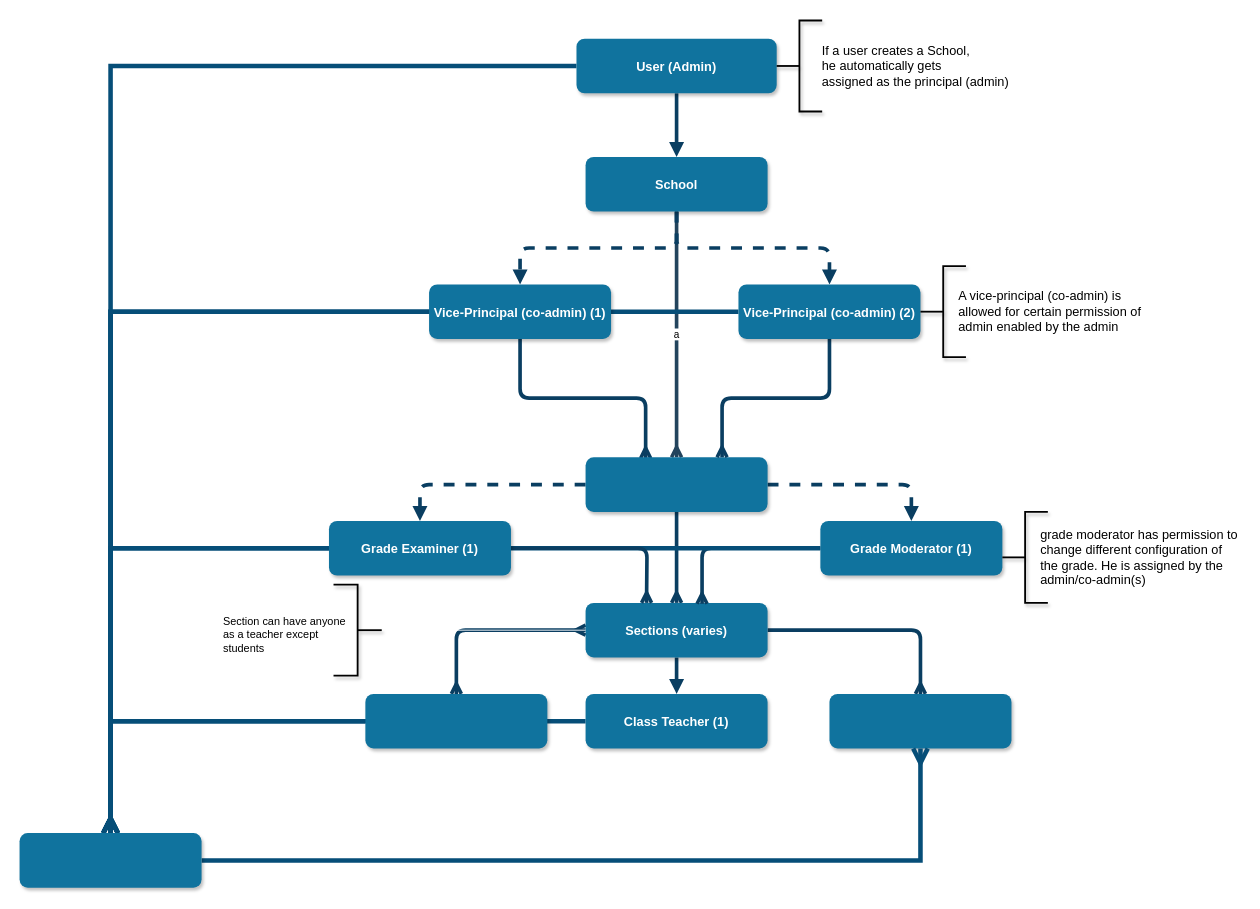
This 1260x909 diagram has some shape labels left out. Here are the shapes that lost their labels. From the top down, the centre of each, then its label:
point 677,485: Grades (1-12)
point 456,722: Teachers (varies)
point 920,722: Student (varies)
point 111,861: Class
